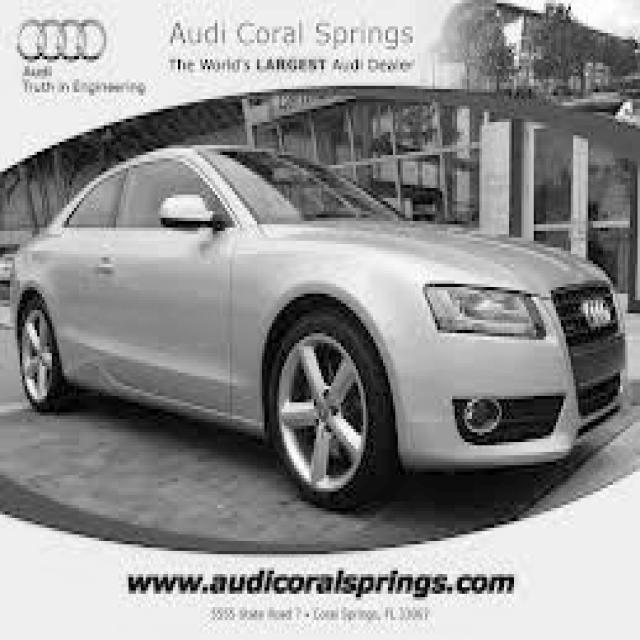car: (8, 142, 626, 511)
